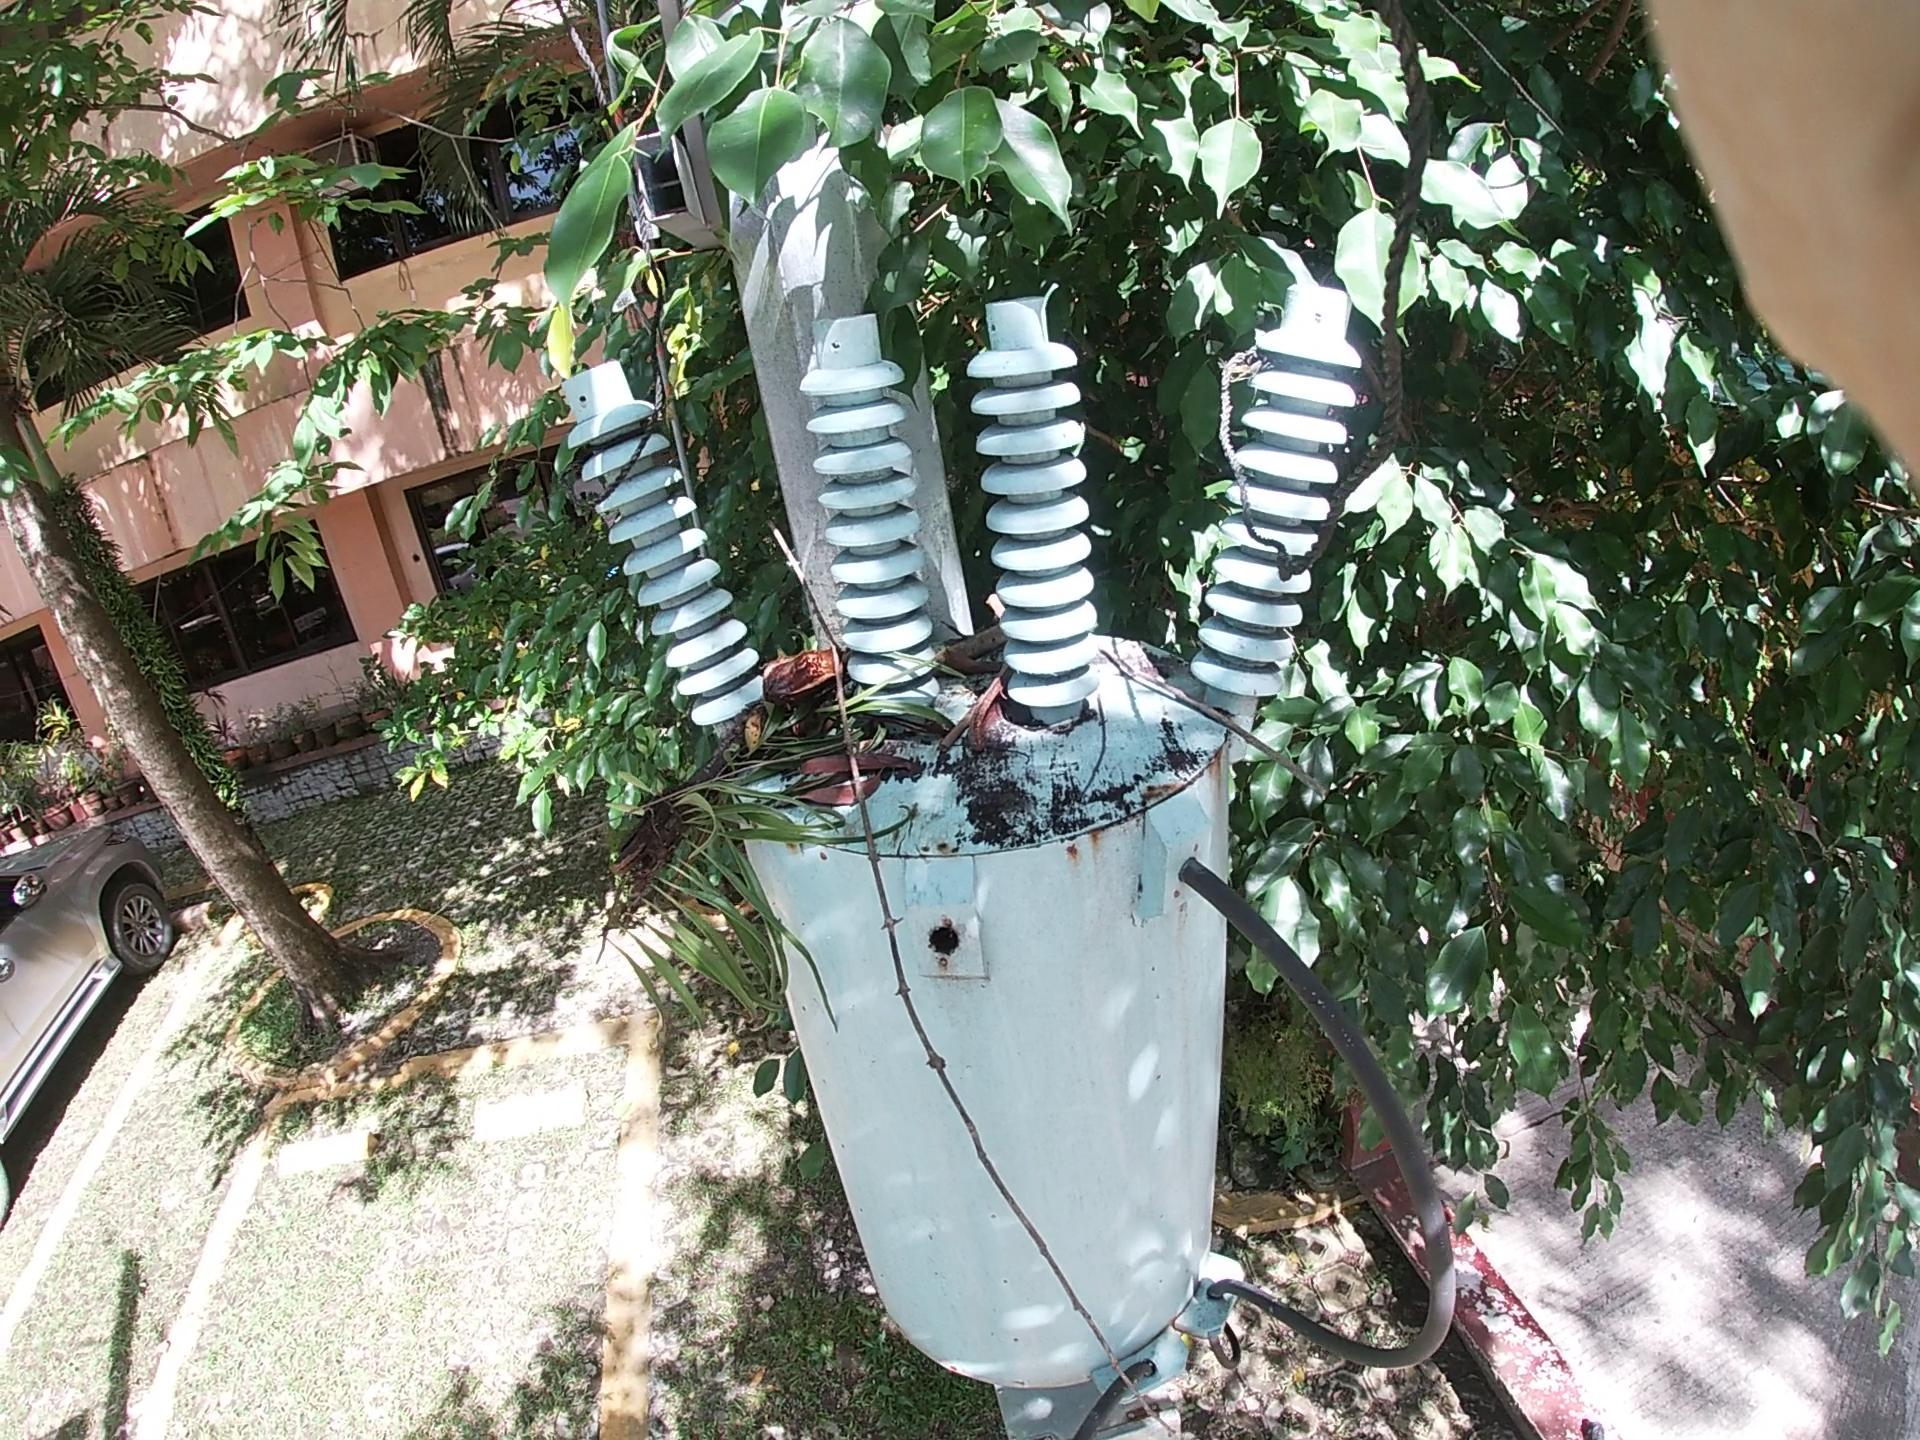branch with leaves: (543, 442, 1043, 1085)
leaf: (785, 717, 934, 858)
mahogany fruit: (723, 620, 853, 750), (928, 649, 1037, 768)
tree branch: (745, 470, 1092, 1284), (1101, 656, 1341, 877), (912, 607, 1043, 924)
